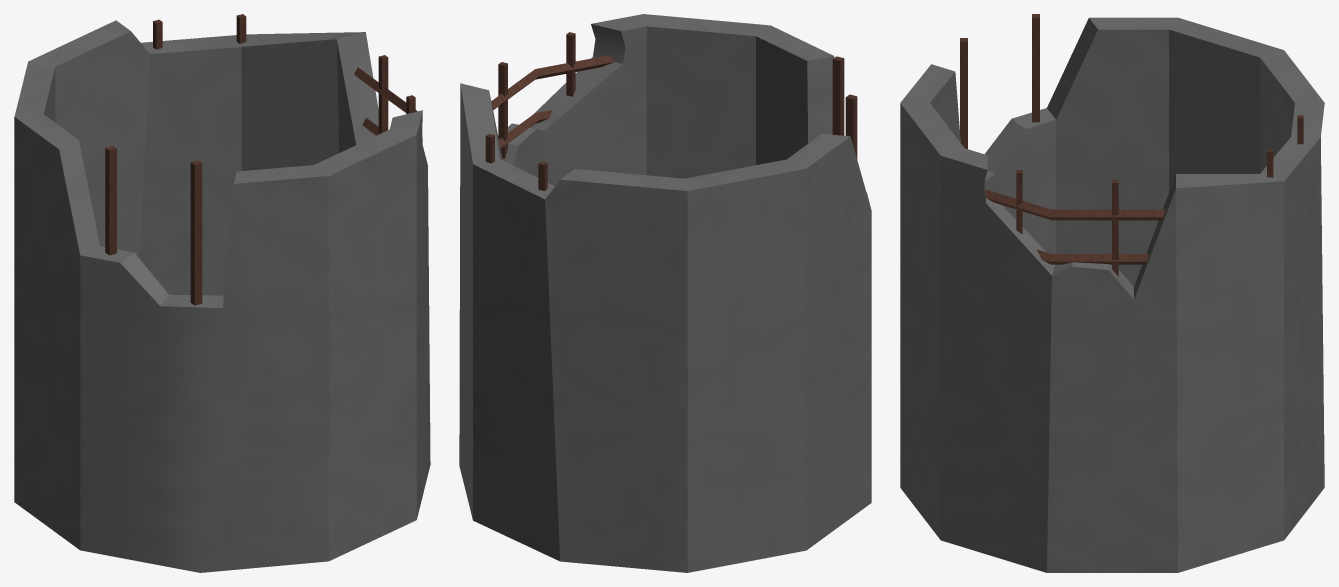
The model's file is BrokenConcrete.fbx.
3 views of the same model, side by side, from view 1: azimuth 30°, elevation 25°; view 2: azimuth 150°, elevation 25°; view 3: azimuth 270°, elevation 25° (orthographic).
Parts seen in each view (by area): view 1: Cube.026; view 2: Cube.026; view 3: Cube.026.
Boxes of the visible parts, x1,y1,x2,y2 form: Cube.026: (14, 14, 430, 572); Cube.026: (459, 14, 871, 572); Cube.026: (900, 14, 1324, 572).
Size of the model in its own units: 109 by 119 by 115.
